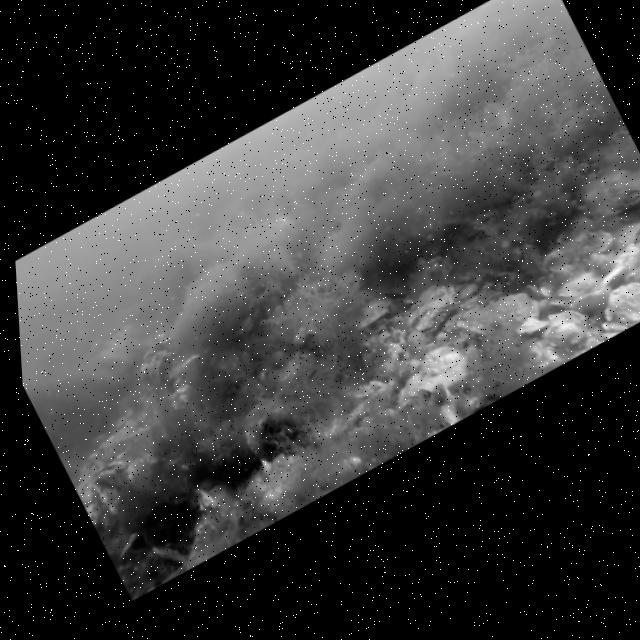Oyster-Closed: (90, 483, 131, 527), (88, 457, 133, 489), (514, 311, 552, 340)
Oyster-Indeterminate: (149, 351, 172, 394)
